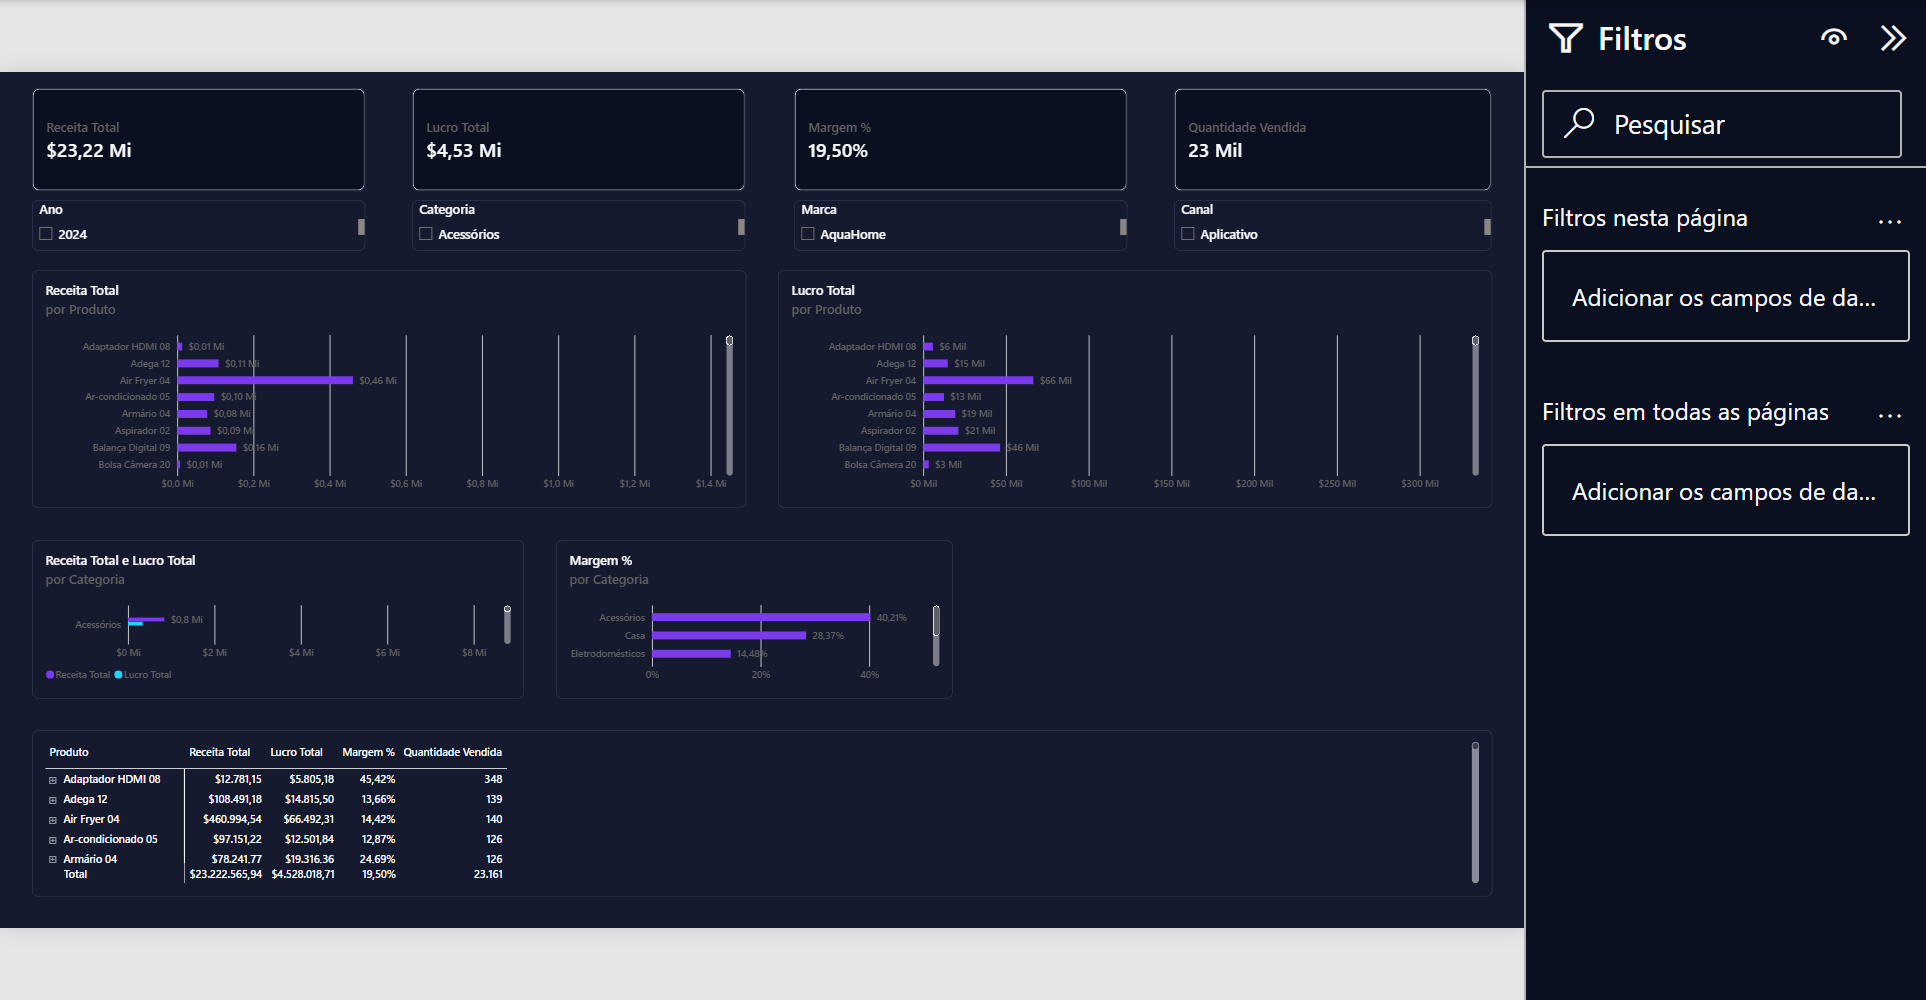

What the dashboard file says about the page in this screenshot:
{"tool":"powerbi","page":{"name":"Produtos & Categorias","canvas":[1920,1080],"ordinal":1},"visuals":[{"type":"cardVisual","fields":{"Data":["_Medidas.Receita Total"]},"box":[40,20,420,130],"z":1000},{"type":"cardVisual","fields":{"Data":["_Medidas.Lucro Total"]},"box":[520,20,420,130],"z":1001},{"type":"cardVisual","fields":{"Data":["_Medidas.Margem %"]},"box":[1000,20,420,130],"z":1002},{"type":"cardVisual","fields":{"Data":["_Medidas.Quantidade Vendida"]},"box":[1480,20,400,130],"z":1003},{"type":"barChart","fields":{"Category":["dProdutos.Produto"],"Y":["_Medidas.Receita Total"]},"box":[40,250,900,300],"z":2000},{"type":"barChart","fields":{"Category":["dProdutos.Produto"],"Y":["_Medidas.Lucro Total"]},"box":[980,250,900,300],"z":3000},{"type":"clusteredBarChart","fields":{"Category":["dProdutos.Categoria"],"Y":["_Medidas.Receita Total","_Medidas.Lucro Total"]},"box":[40,590,620,200],"z":4000},{"type":"barChart","fields":{"Category":["dProdutos.Categoria"],"Y":["_Medidas.Margem %"]},"box":[700,590,500,200],"z":5000},{"type":"pivotTable","fields":{"Rows":["dProdutos.Produto","dProdutos.Categoria"],"Values":["_Medidas.Receita Total","_Medidas.Lucro Total","_Medidas.Margem %","_Medidas.Quantidade Vendida"]},"box":[40,830,1840,210],"z":6000},{"type":"slicer","fields":{"Values":["dCalendario.Ano"]},"box":[40,160,420,64],"z":7000},{"type":"slicer","fields":{"Values":["dProdutos.Categoria"]},"box":[520,160,420,64],"z":7001},{"type":"slicer","fields":{"Values":["dProdutos.Marca"]},"box":[1000,160,420,64],"z":7002},{"type":"slicer","fields":{"Values":["dCanal.Canal"]},"box":[1480,160,400,64],"z":7003}]}

Visuals, with their boxes on the page's 1920x1080 design canvas (x1, y1, x2, y2). These are canvas units, not pixel positions in the 1926x1000 screenshot, which may show the page scaled, cropped or inside an application window:
cardVisual - _Medidas.Receita Total: locate(40, 20, 460, 150)
cardVisual - _Medidas.Lucro Total: locate(520, 20, 940, 150)
cardVisual - _Medidas.Margem %: locate(1000, 20, 1420, 150)
cardVisual - _Medidas.Quantidade Vendida: locate(1480, 20, 1880, 150)
barChart - dProdutos.Produto x _Medidas.Receita Total: locate(40, 250, 940, 550)
barChart - dProdutos.Produto x _Medidas.Lucro Total: locate(980, 250, 1880, 550)
clusteredBarChart - dProdutos.Categoria x _Medidas.Receita Total: locate(40, 590, 660, 790)
barChart - dProdutos.Categoria x _Medidas.Margem %: locate(700, 590, 1200, 790)
pivotTable - dProdutos.Produto x dProdutos.Categoria: locate(40, 830, 1880, 1040)
slicer - dCalendario.Ano: locate(40, 160, 460, 224)
slicer - dProdutos.Categoria: locate(520, 160, 940, 224)
slicer - dProdutos.Marca: locate(1000, 160, 1420, 224)
slicer - dCanal.Canal: locate(1480, 160, 1880, 224)
